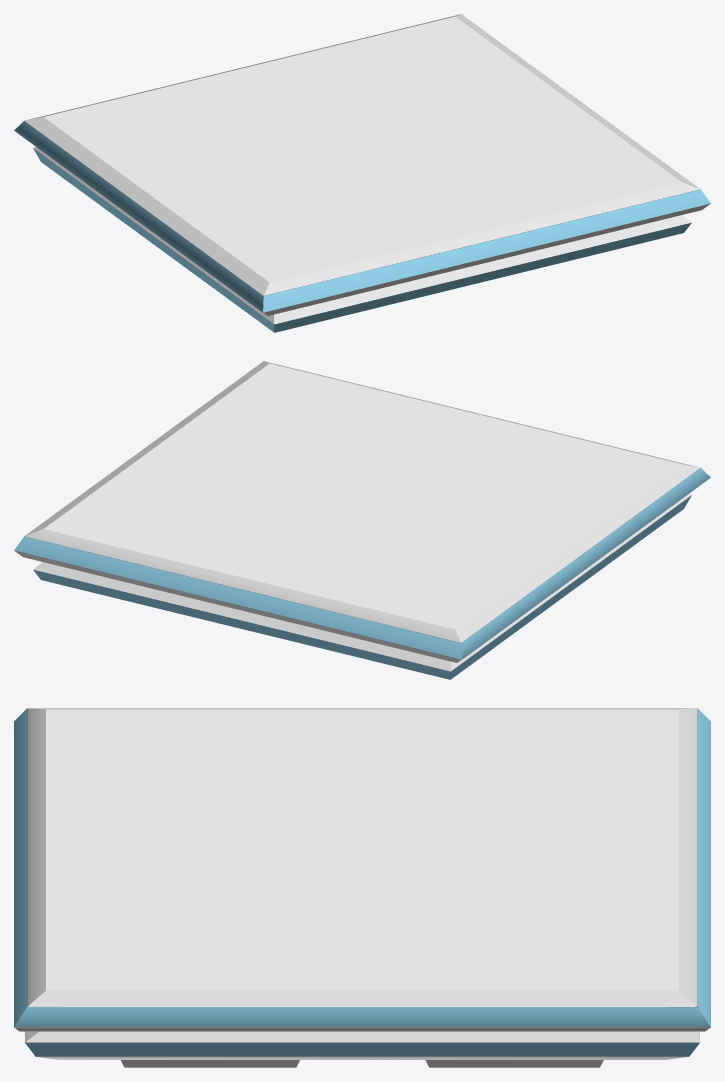
File: Pallet 1.fbx
3 views of the same model, one above another, from view 1: azimuth 30°, elevation 25°; view 2: azimuth 150°, elevation 25°; view 3: azimuth 270°, elevation 25° (orthographic). The views are drawn at different scales.
Parts seen in each view (by area): view 1: pCube1; view 2: pCube1; view 3: pCube1.
Boxes of the visible parts, x1,y1,x2,y2 form: pCube1: [14, 14, 710, 332]; pCube1: [14, 361, 710, 679]; pCube1: [14, 708, 710, 1067].
Bounding box in the file's own units: 6.43 × 0.9574 × 6.19.
